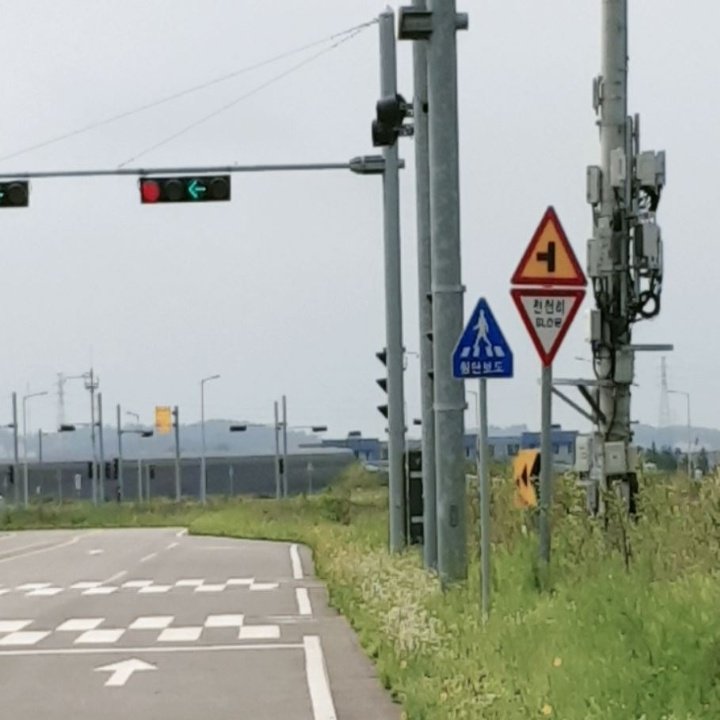cross: (460, 300, 507, 358)
